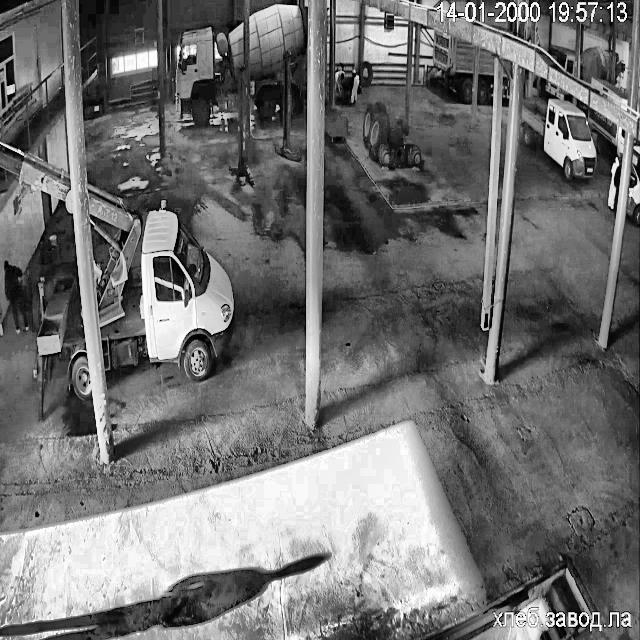mechanic: (4, 260, 28, 332), (608, 156, 620, 212)
truck: (88, 186, 233, 380), (176, 24, 244, 124), (36, 277, 92, 396), (248, 4, 306, 118), (522, 99, 595, 179), (0, 142, 72, 210), (432, 29, 474, 102), (62, 316, 91, 396), (588, 109, 624, 156), (580, 46, 624, 84), (592, 78, 627, 106), (626, 164, 640, 226), (478, 48, 494, 102), (548, 45, 576, 74), (536, 77, 563, 99), (501, 60, 511, 96), (633, 142, 640, 155), (40, 373, 44, 393), (40, 366, 42, 371), (78, 308, 78, 310)
